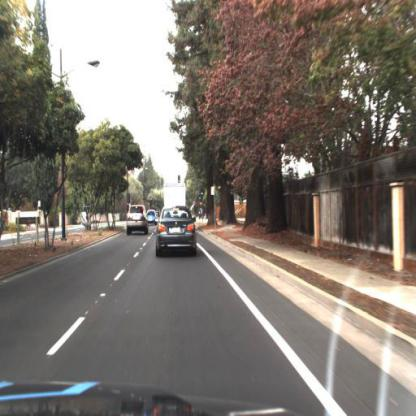car: (154, 204, 201, 263), (159, 182, 193, 215), (125, 204, 150, 239), (146, 206, 158, 232)
truck: (163, 181, 189, 230)
